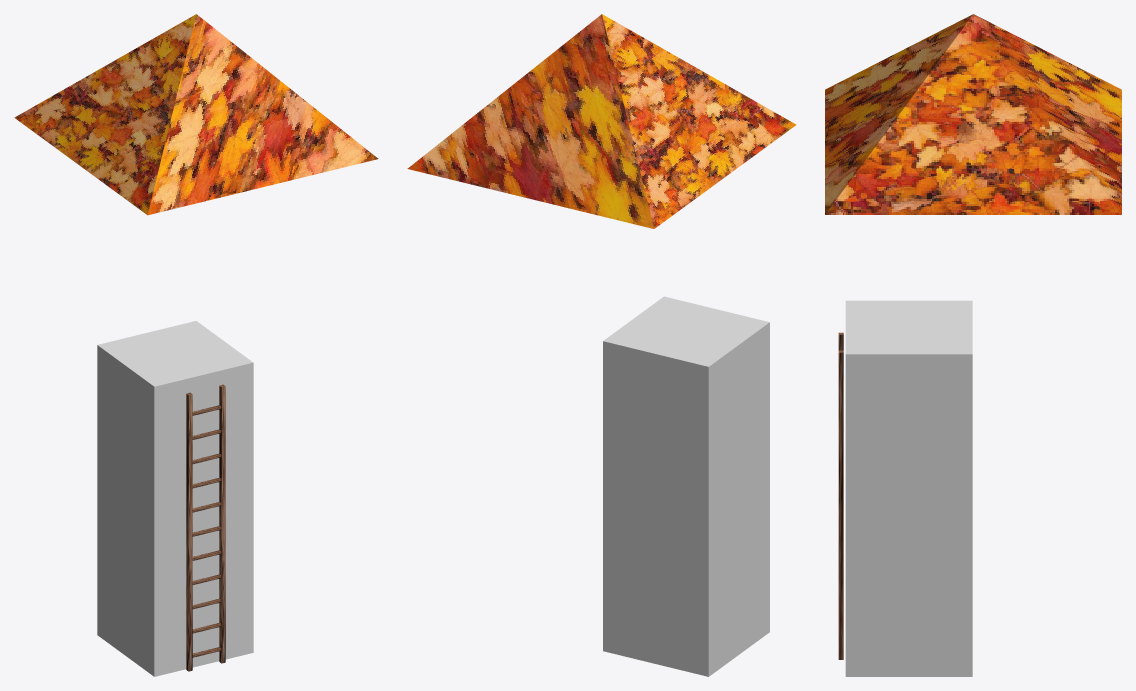
The model's file is wooden_outpost_tower.glb.
3 renders of one model, left to right at view 1: azimuth 30°, elevation 25°; view 2: azimuth 150°, elevation 25°; view 3: azimuth 270°, elevation 25°, orthographic. The views are drawn at different scales.
Parts seen in each view (by area): view 1: climb_trigger_zone, Roof, Ladder_Rail_L, Ladder_Rail_R, Ladder; view 2: climb_trigger_zone, Roof; view 3: Roof, climb_trigger_zone, Ladder_Rail_R.
Part boxes in pixels (box(x1,y1,x2,y2)): climb_trigger_zone: box(97, 321, 253, 676); Roof: box(14, 14, 378, 215); Ladder_Rail_L: box(186, 392, 192, 671); Ladder_Rail_R: box(219, 384, 225, 663); Ladder: box(192, 405, 221, 657); climb_trigger_zone: box(603, 296, 769, 676); Roof: box(407, 14, 796, 228); Roof: box(825, 14, 1121, 214); climb_trigger_zone: box(845, 300, 972, 676); Ladder_Rail_R: box(838, 350, 843, 659).
Size of what is drawn, in the model's own units: 3.5 by 8.63 by 3.5.
Materials: 2 (2 with a texture image).
